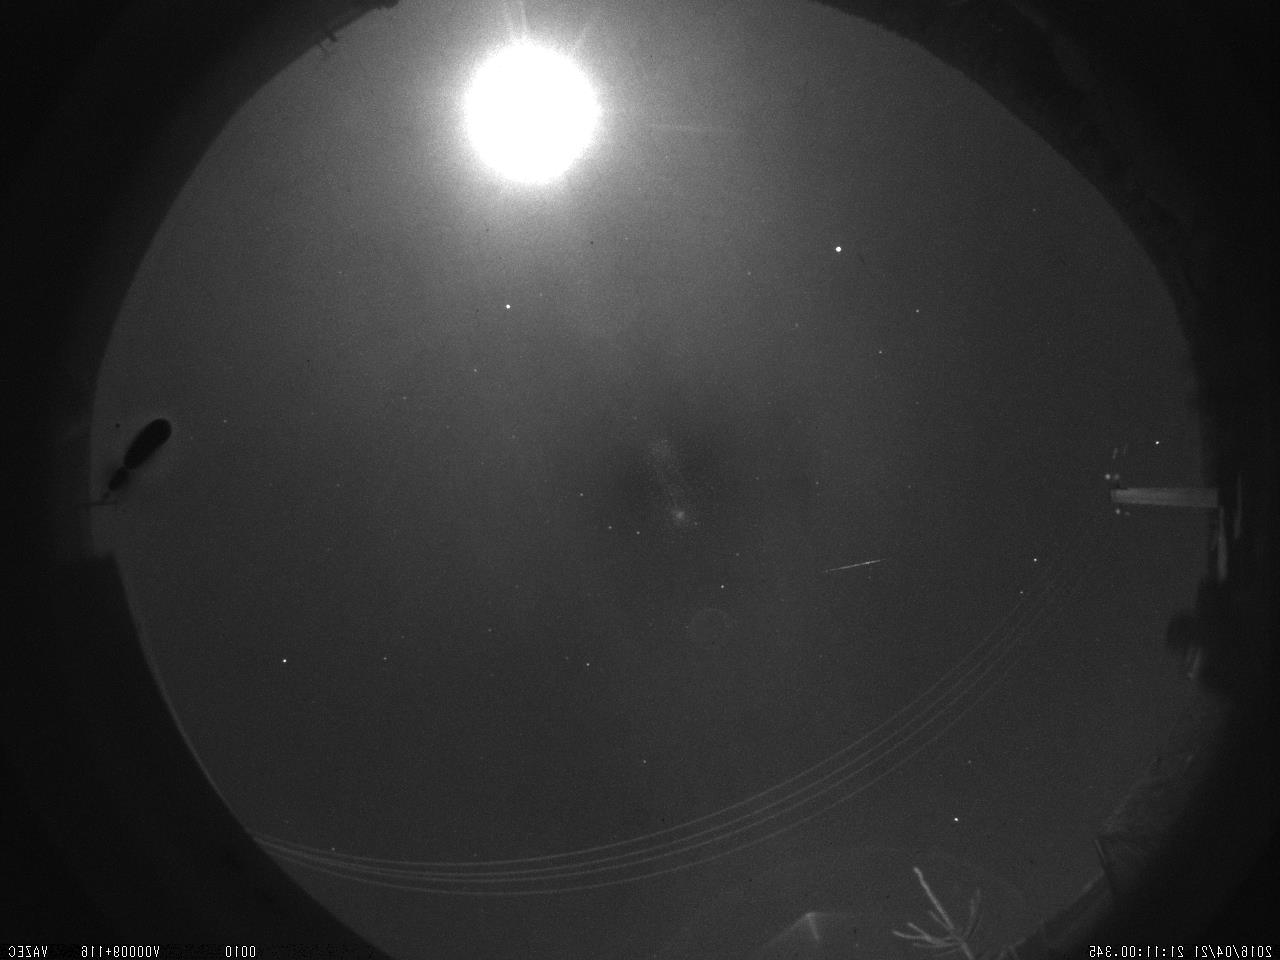meteor: (784, 539, 904, 601)
